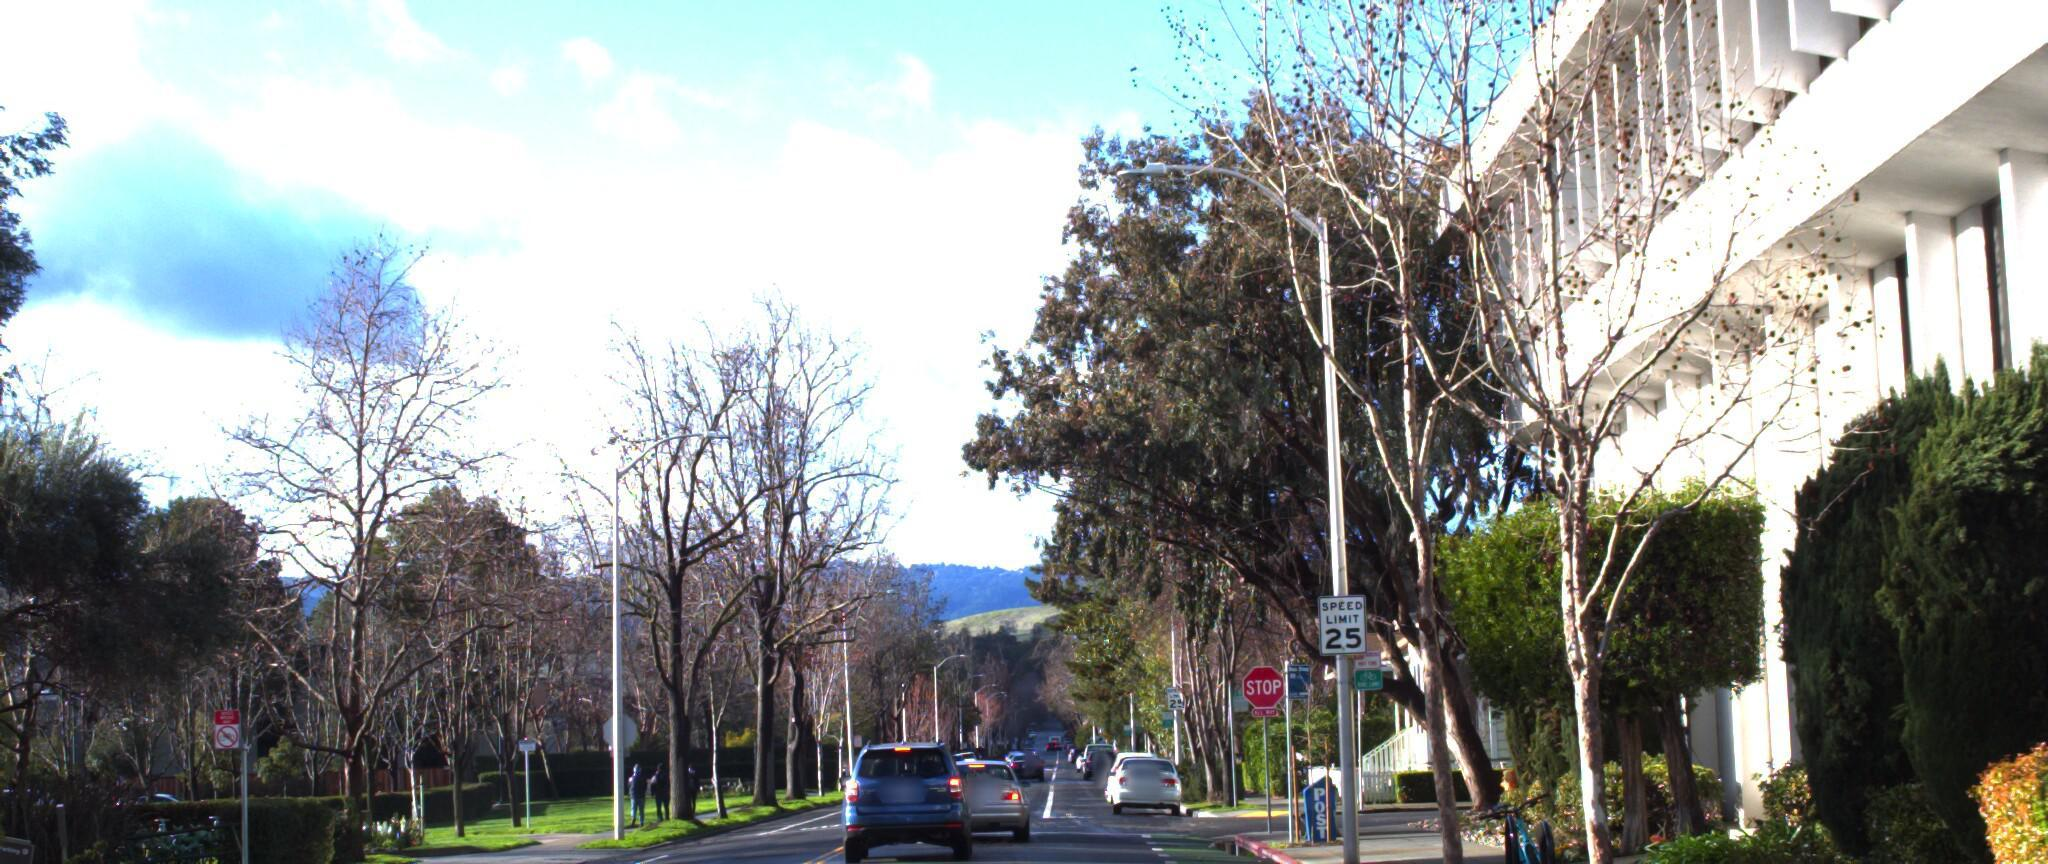bicycle: (1435, 774, 1566, 864)
car: (827, 732, 967, 861), (909, 730, 1019, 834), (1095, 752, 1172, 817)
